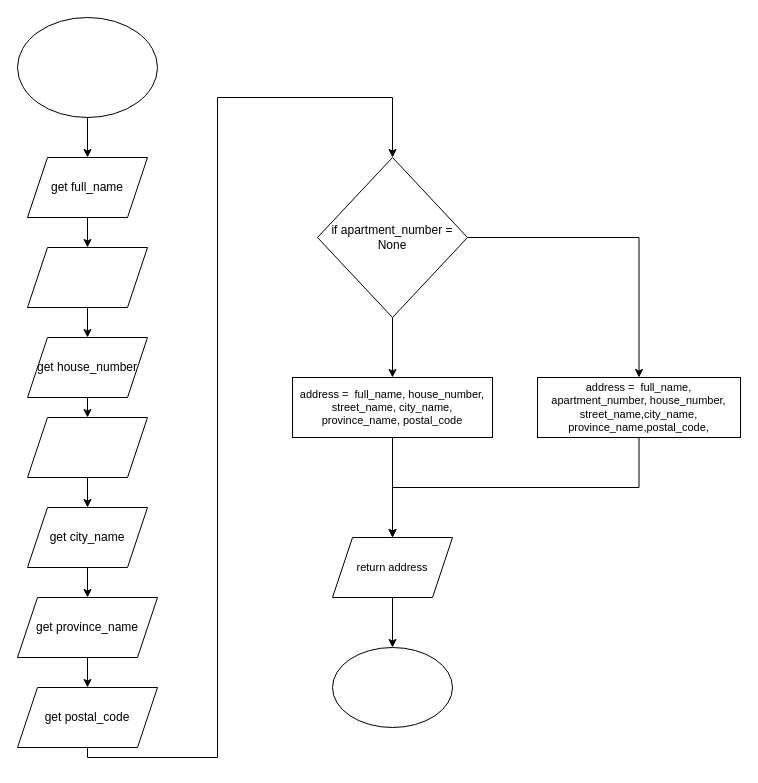
The diagram is 758 pixels wide and 783 high, and some of its shapes have lost their labels. Here are the shapes that lost their labels. From the top down, the centre of each, then its label:
At [87,67]: "Start".
At [87,277]: "get apartment_number".
At [87,447]: "get street_name".
At [392,687]: "Stop".
